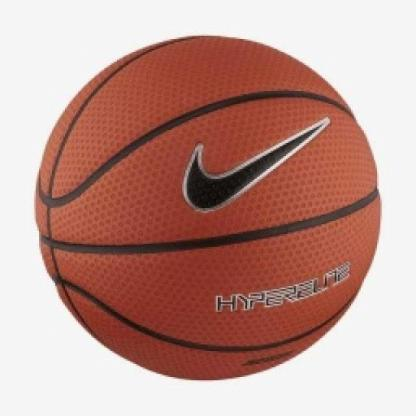basketball: (24, 28, 388, 389)
